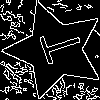T: (30, 25, 85, 69)
